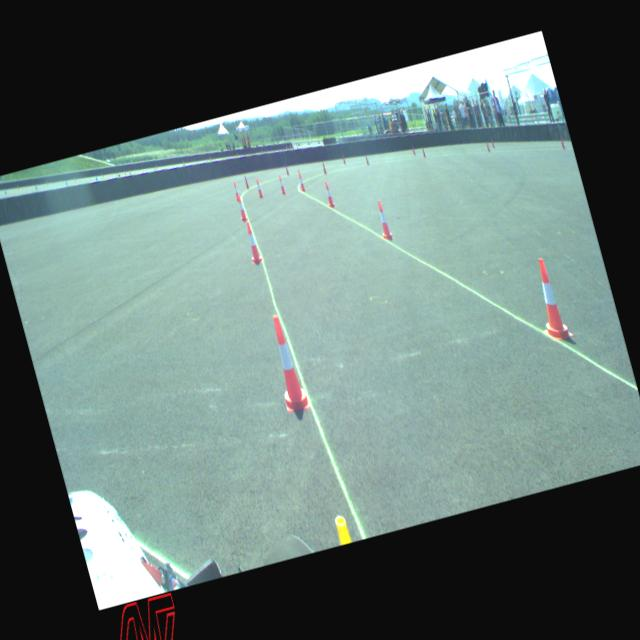orange_cone: (262, 312, 310, 414), (525, 255, 573, 342), (372, 198, 393, 240), (242, 220, 262, 264), (322, 181, 336, 208), (235, 194, 248, 222), (276, 174, 286, 194), (254, 178, 264, 198), (231, 181, 241, 201), (296, 171, 306, 191)
